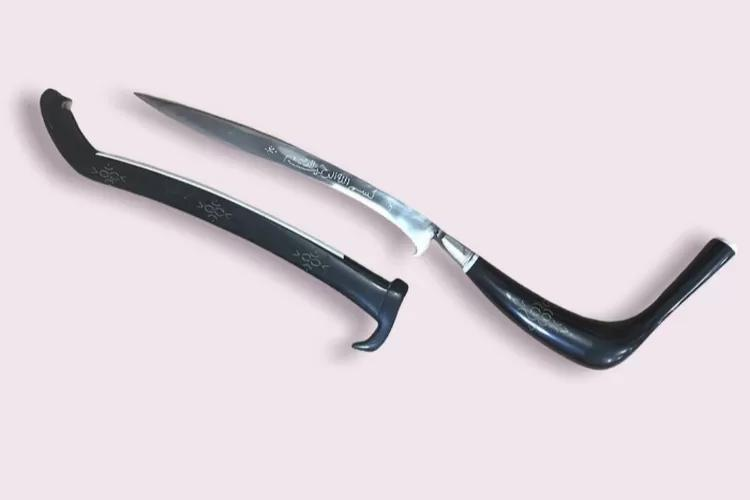espada: (124, 69, 746, 378), (10, 78, 455, 390)
